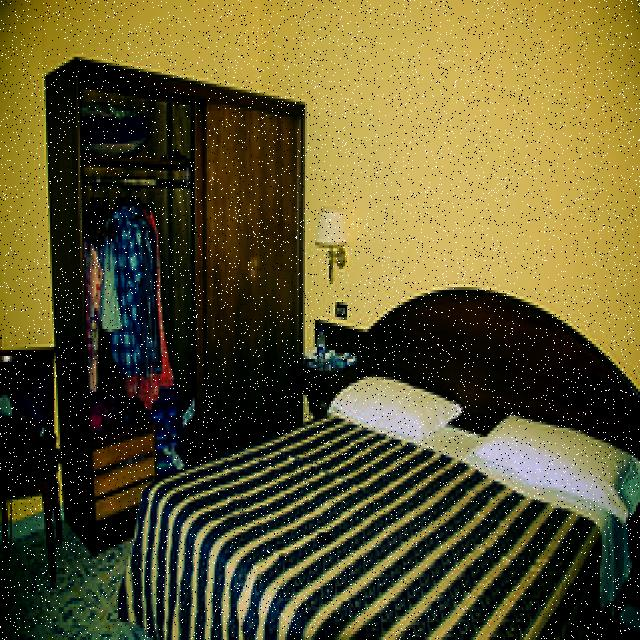bed: (140, 356, 638, 640)
